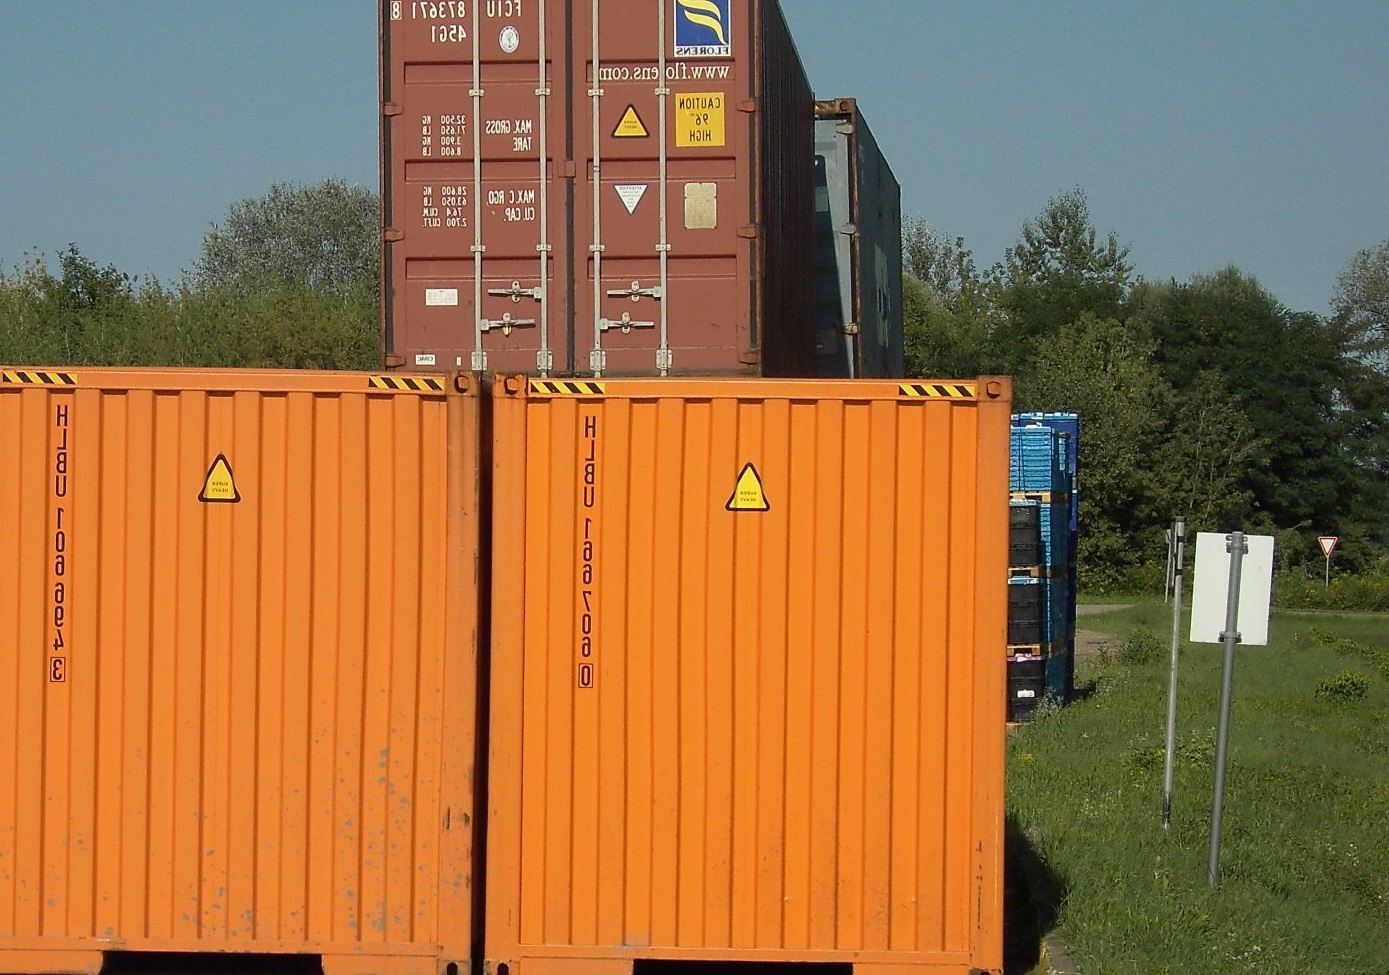container_door: (370, 9, 760, 357)
container_no_door: (498, 377, 1012, 975), (4, 363, 475, 975)
